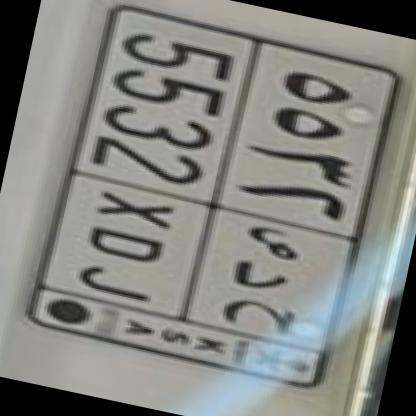english: (25, 0, 276, 337)
